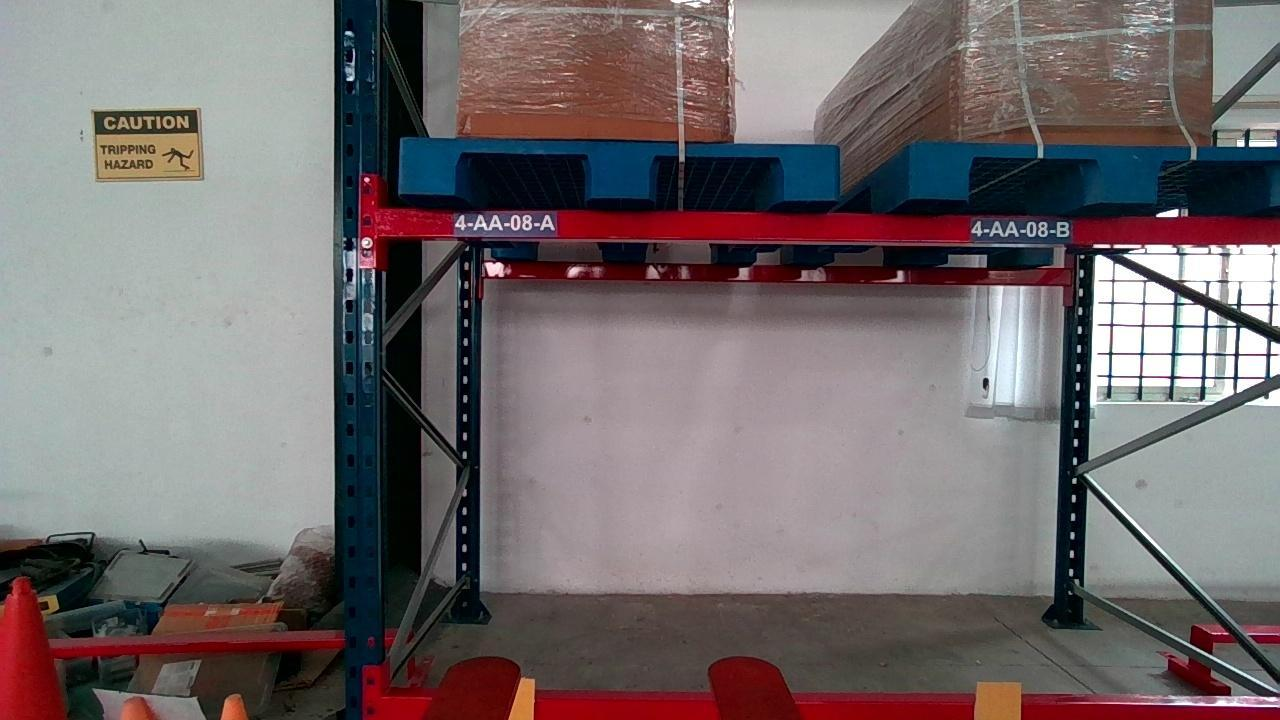h_rack: (383, 205, 1280, 243)
small_pallet: (402, 137, 837, 204), (912, 144, 1279, 207)
